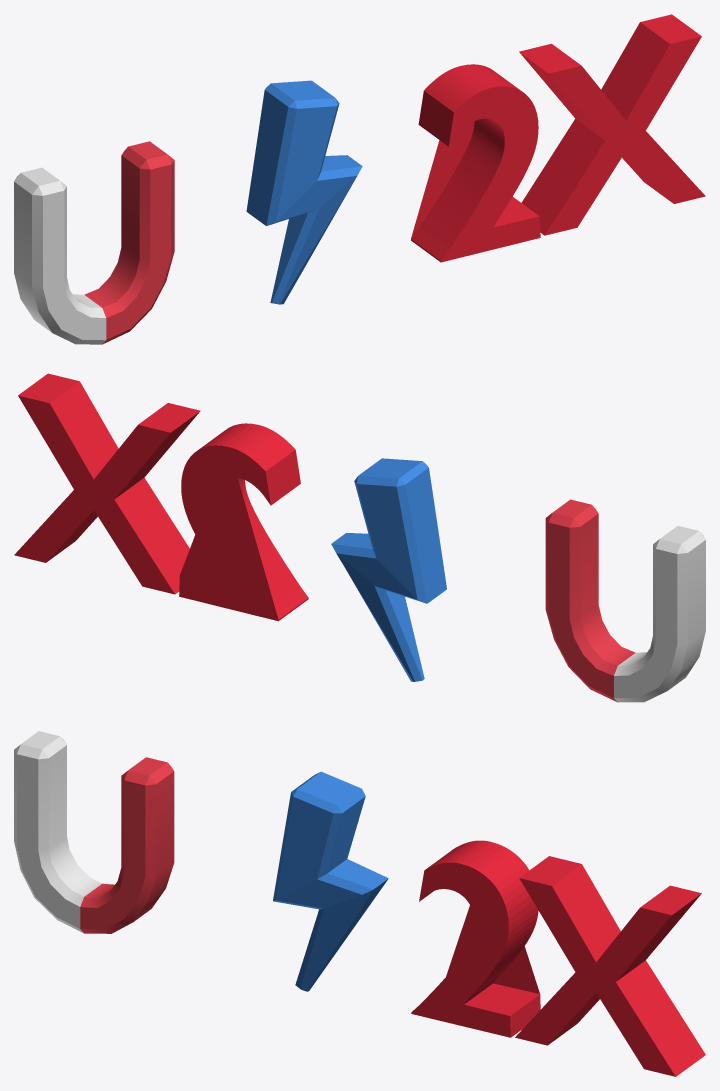
The model's file is PowerUps.fbx.
3 views of the same model, one above another, from view 1: azimuth 30°, elevation 25°; view 2: azimuth 150°, elevation 25°; view 3: azimuth 330°, elevation 25° (orthographic).
Parts seen in each view (by area): view 1: Text, Cube, Cube.001; view 2: Text, Cube, Cube.001; view 3: Text, Cube, Cube.001.
Part boxes in pixels (x1,y1,x2,y2): Text: [411, 14, 705, 262]; Cube: [14, 141, 174, 344]; Cube.001: [246, 80, 362, 304]; Text: [14, 373, 308, 621]; Cube: [545, 499, 705, 702]; Cube.001: [331, 458, 446, 681]; Text: [411, 840, 705, 1076]; Cube: [14, 731, 174, 933]; Cube.001: [273, 771, 388, 991].
Size of the model in its own units: 2564 by 776 by 285.
